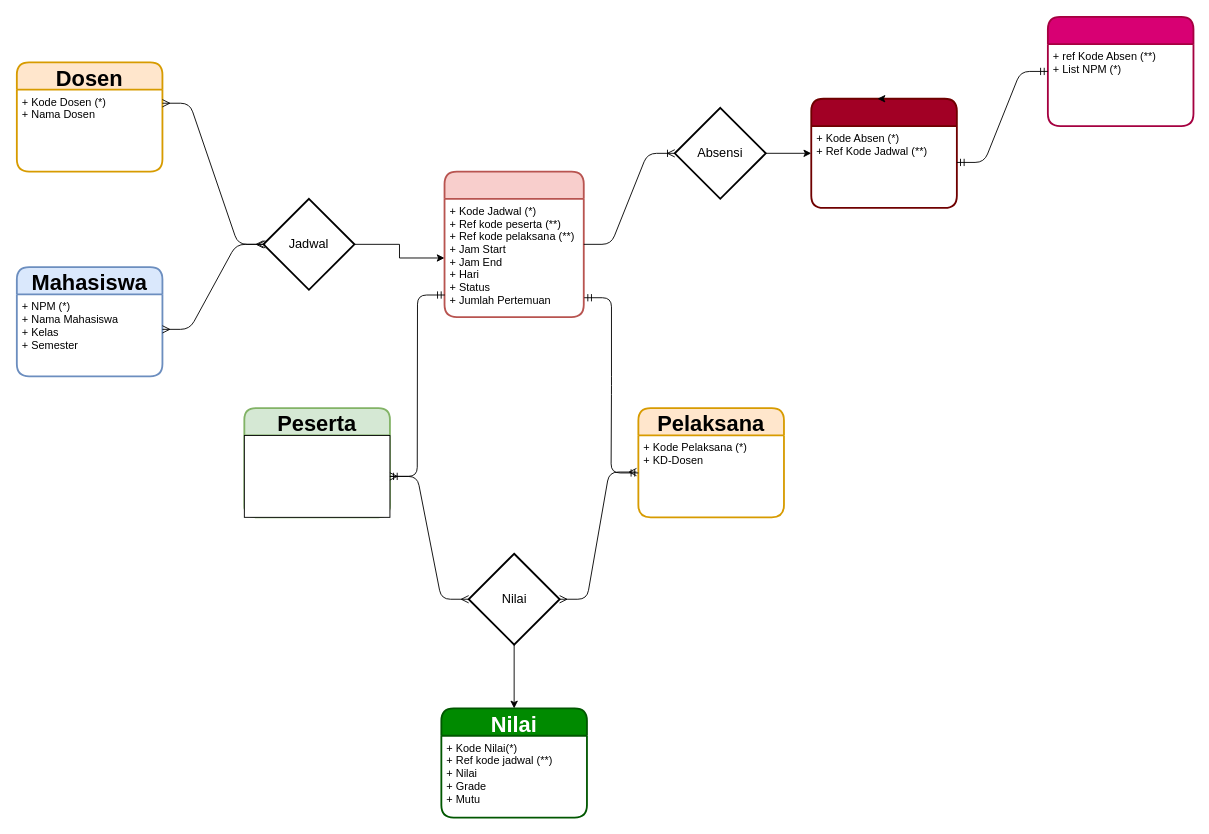
This 1209x834 diagram has some shape labels left out. Here are the shapes that lost their labels. From the top down, the box of each, then its label:
(1046, 15, 1194, 126): Absensi (Temp)
(810, 97, 957, 208): Absensi (M)
(443, 170, 584, 318): Kelas Kuliah
(243, 435, 390, 517): + Kode Peserta (*) + NPM + KD-MK
